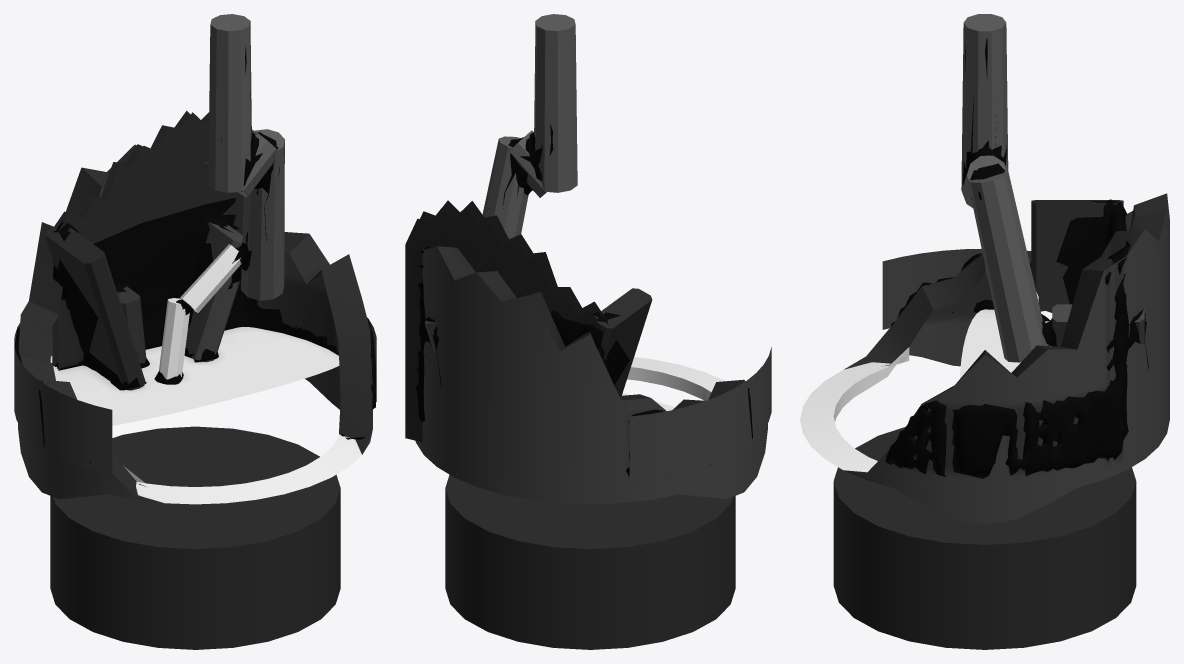
The model's file is newshc-77-f8.glb.
The picture shows the model from 3 angles, left to right: view 1: azimuth 30°, elevation 25°; view 2: azimuth 150°, elevation 25°; view 3: azimuth 270°, elevation 25°; orthographic projection. The views are drawn at different scales.
Visible parts, largest first — view 1: newshc-77-f8, newshc-77-f8_outline; view 2: newshc-77-f8, newshc-77-f8_outline; view 3: newshc-77-f8, newshc-77-f8_outline.
Boxes of the visible parts, box(x1,y1,x2,y2) form: newshc-77-f8: box(14, 14, 376, 649); newshc-77-f8_outline: box(15, 46, 376, 486); newshc-77-f8: box(405, 14, 771, 649); newshc-77-f8_outline: box(416, 95, 770, 477); newshc-77-f8: box(800, 14, 1169, 649); newshc-77-f8_outline: box(884, 38, 1148, 478).
Size of the model in its own units: 0.7499 by 1.27 by 0.7333.
Materials: 7 (6 with a texture image).
